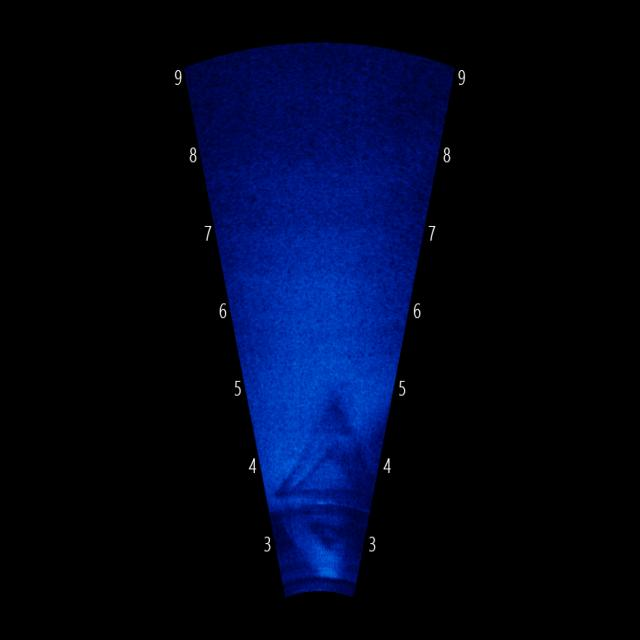triangle: (290, 446, 362, 504)
